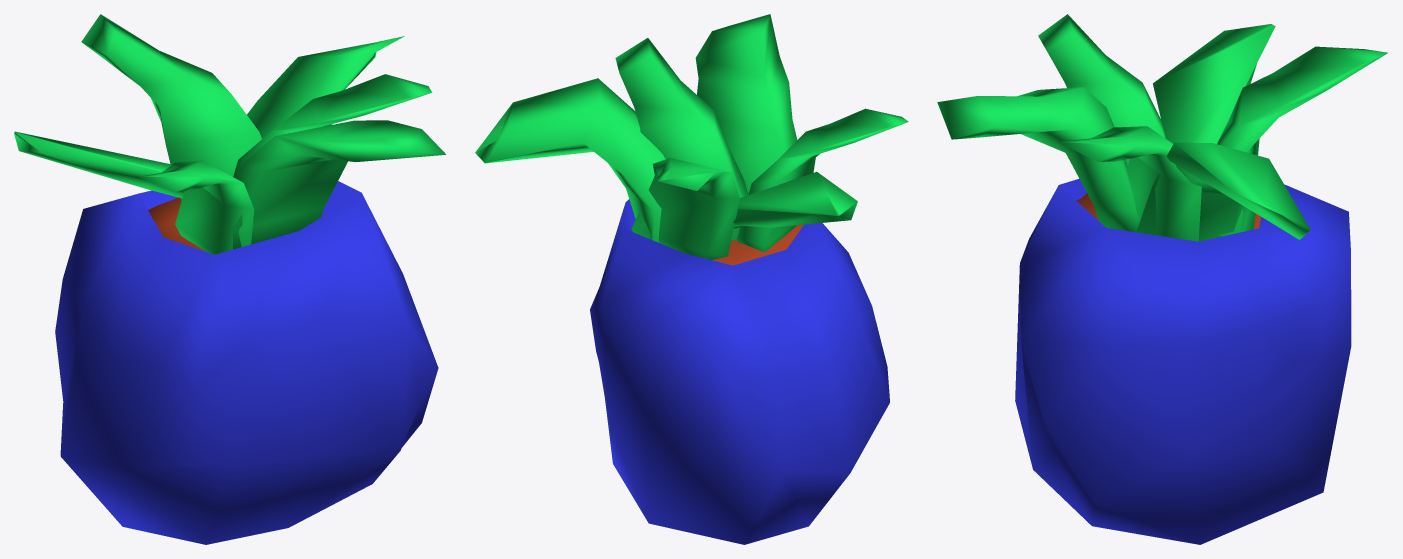
File: plante.fbx
3 views of the same model, side by side, from view 1: azimuth 30°, elevation 25°; view 2: azimuth 150°, elevation 25°; view 3: azimuth 270°, elevation 25° (orthographic). The views are drawn at different scales.
Visible parts, largest first — view 1: plante; view 2: plante; view 3: plante.
Part boxes in pixels (bbox=[...]): plante: bbox=[14, 14, 446, 544]; plante: bbox=[475, 14, 908, 544]; plante: bbox=[937, 14, 1388, 544].
Size of the model in its own units: 215 by 234 by 212.
